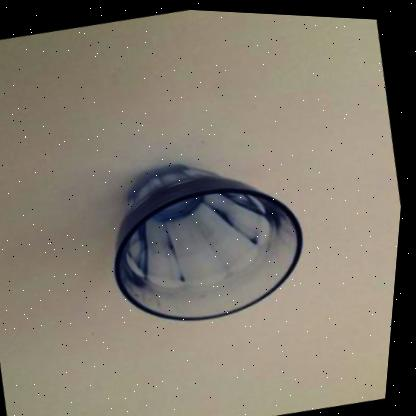Glass: (118, 163, 303, 317)
